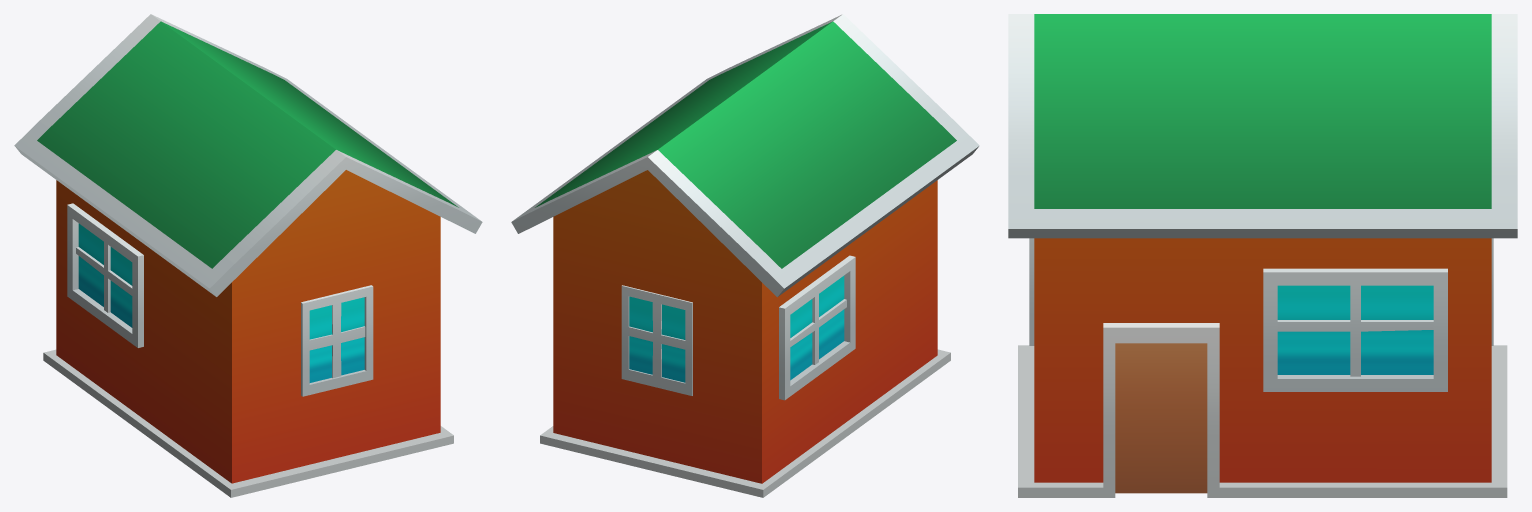
File: Shack.fbx
The picture shows the model from 3 angles, left to right: view 1: azimuth 30°, elevation 25°; view 2: azimuth 150°, elevation 25°; view 3: azimuth 270°, elevation 25°; orthographic projection. The views are drawn at different scales.
Parts seen in each view (by area): view 1: Shack; view 2: Shack; view 3: Shack.
Part boxes in pixels (left/top/right/bottom): Shack: left=14, top=14, right=482, bottom=497; Shack: left=511, top=14, right=979, bottom=497; Shack: left=1008, top=14, right=1517, bottom=497.
Size of the model in its own units: 2.16 by 2.39 by 2.67.
